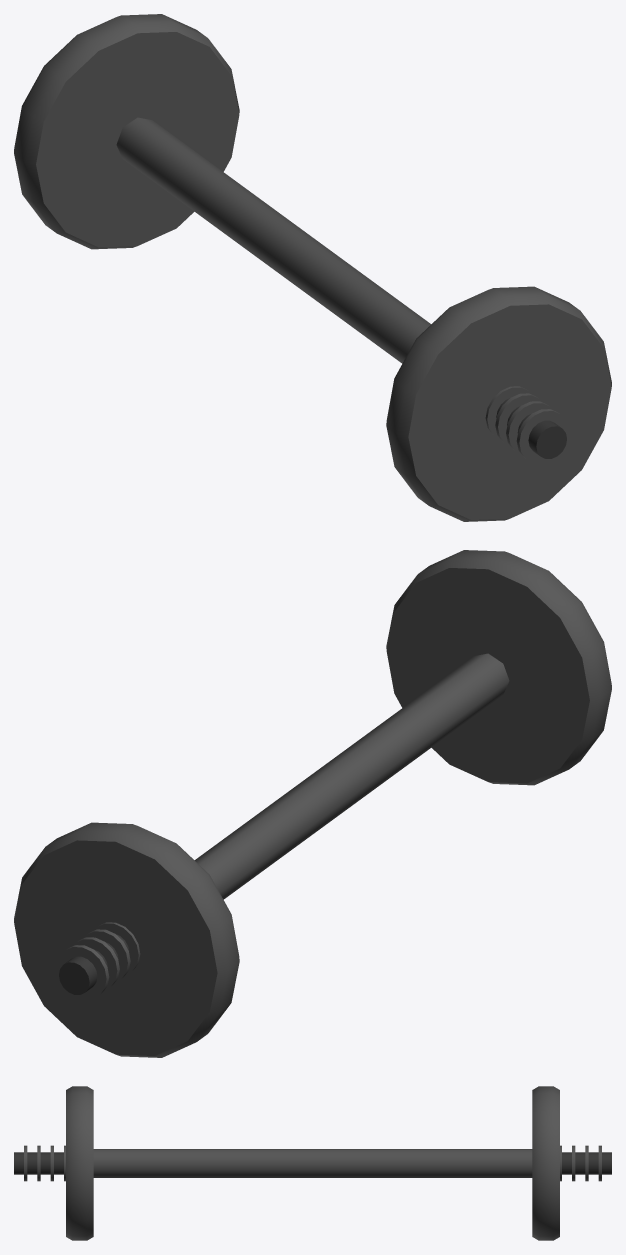
Rendered from long_halter_light.fbx.
3 renders of one model, top to bottom at view 1: azimuth 30°, elevation 25°; view 2: azimuth 150°, elevation 25°; view 3: azimuth 270°, elevation 25°, orthographic. The views are drawn at different scales.
Parts seen in each view (by area): view 1: Cylinder.004; view 2: Cylinder.004; view 3: Cylinder.004.
Boxes of the visible parts, <box> form: Cylinder.004: <box>14,14,611,521</box>; Cylinder.004: <box>14,550,611,1057</box>; Cylinder.004: <box>14,1086,611,1240</box>.
Bounding box in the file's own units: 290 × 290 × 1121.
